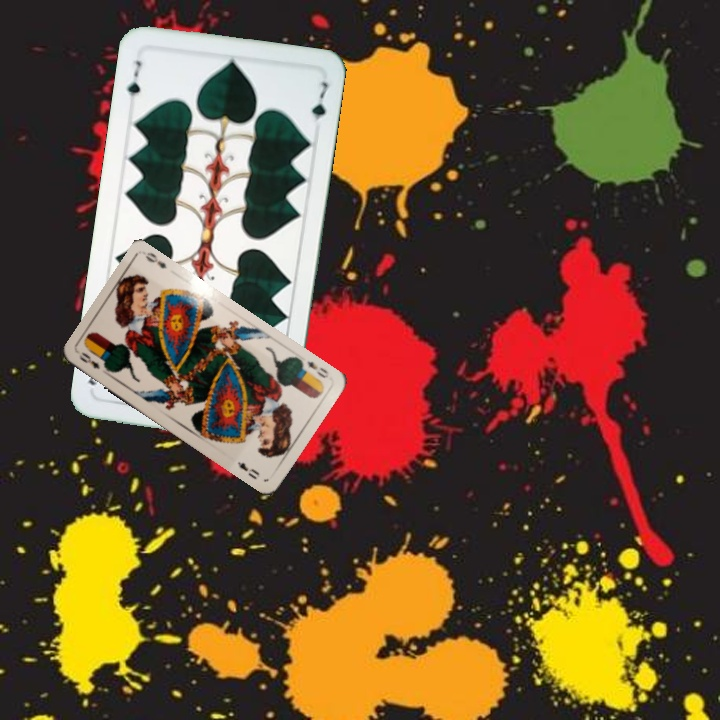EO: (297, 356, 331, 381), (75, 348, 103, 372)
G7: (123, 56, 144, 99)
